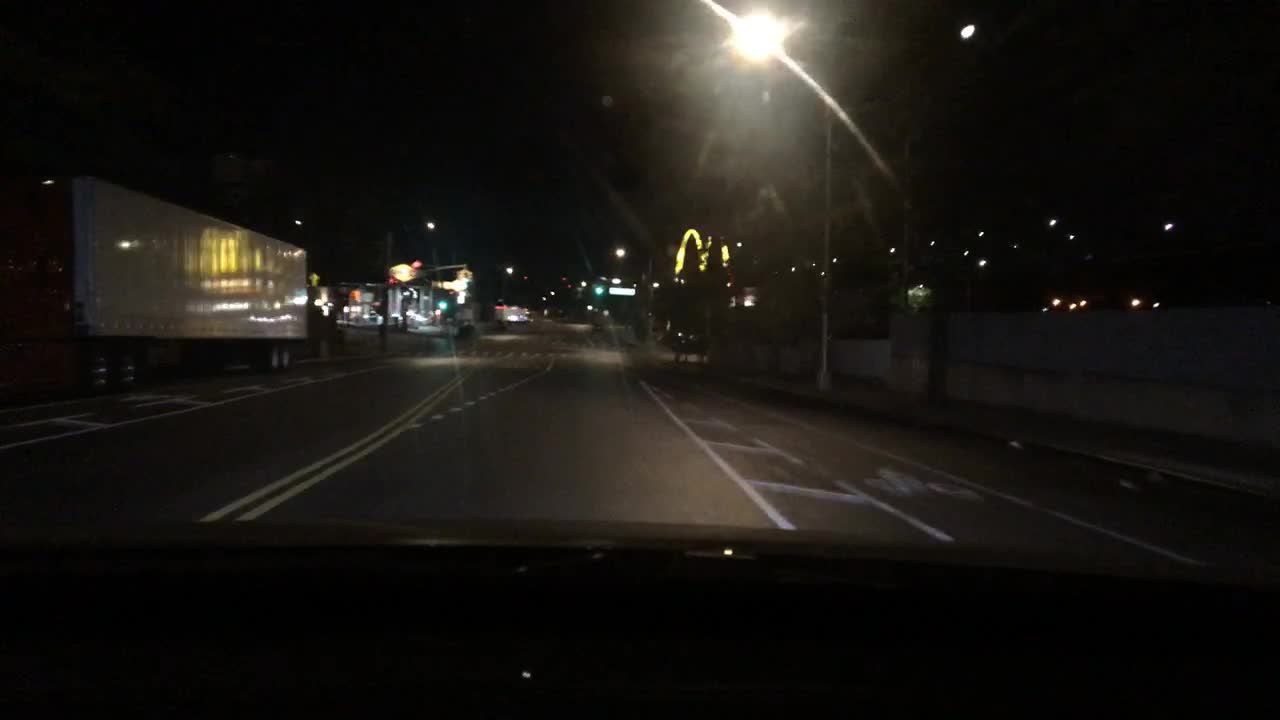car: (495, 298, 533, 326)
traffic light: (436, 295, 449, 313), (457, 268, 473, 282), (594, 282, 607, 299), (410, 255, 423, 271)
traffic sign: (383, 262, 418, 282), (605, 286, 634, 297)
truck: (0, 174, 313, 396)
